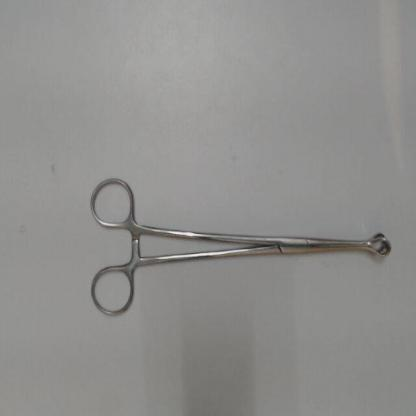8 Babcock Tissue Forceps: (85, 169, 397, 322)
